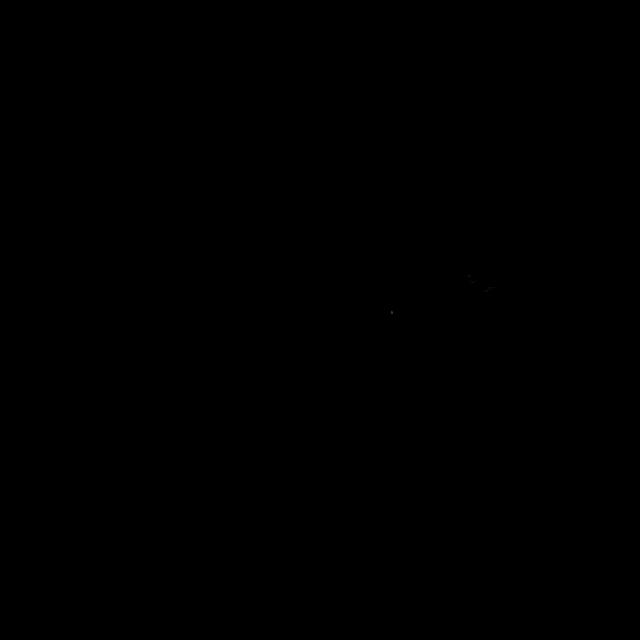Dog: (150, 192, 446, 379)
